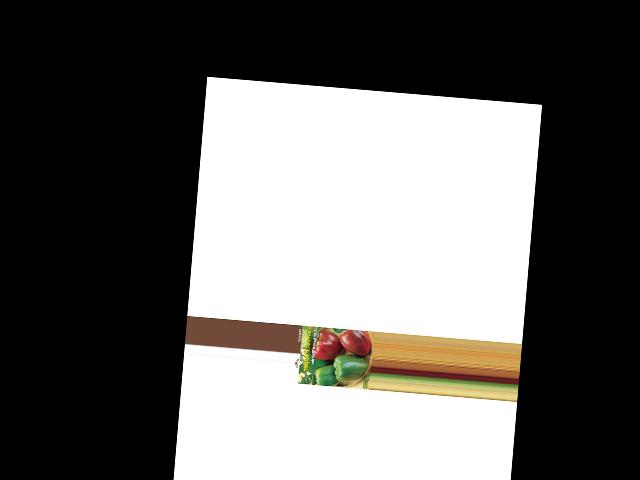bell_pepper: (311, 365, 344, 388)
